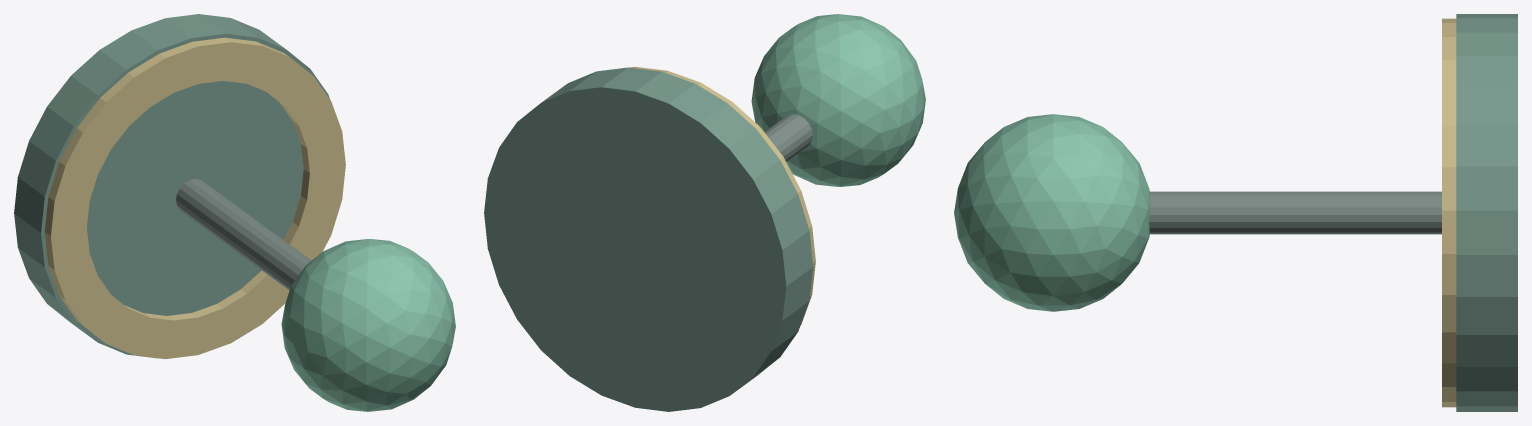
File: timeline-node-high.glb
3 renders of one model, left to right at view 1: azimuth 30°, elevation 25°; view 2: azimuth 150°, elevation 25°; view 3: azimuth 270°, elevation 25°, orthographic. The views are drawn at different scales.
Visible parts, largest first — view 1: base, ring, world, stem; view 2: base, world, stem, ring; view 3: world, base, stem, ring.
Boxes of the visible parts, x1,y1,x2,y2 form: base: [14, 14, 329, 358]; ring: [44, 37, 345, 359]; world: [281, 239, 455, 411]; stem: [176, 179, 311, 289]; base: [484, 67, 813, 411]; world: [751, 14, 925, 186]; stem: [764, 114, 812, 161]; ring: [630, 66, 815, 325]; world: [954, 114, 1149, 311]; base: [1456, 14, 1517, 411]; stem: [1149, 191, 1441, 234]; ring: [1442, 18, 1456, 407].
Size of the model in its own units: 0.84 by 0.84 by 1.19.
